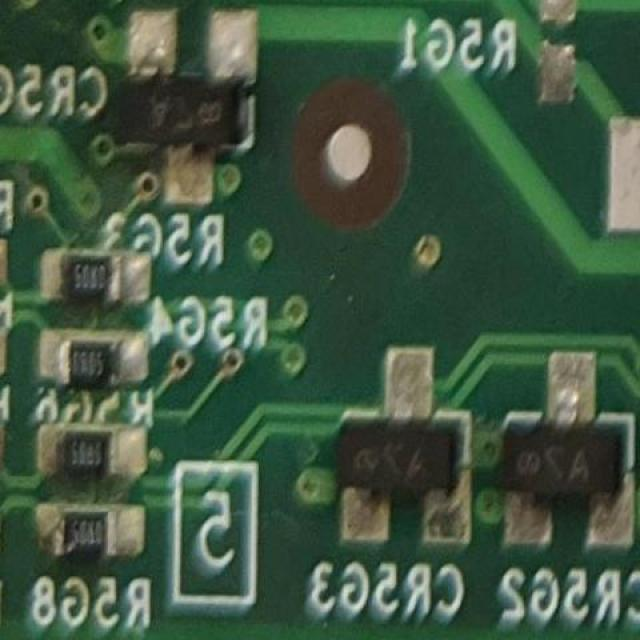resistor: (44, 337, 118, 395), (56, 248, 130, 300), (59, 420, 117, 480), (50, 508, 118, 554)
transistor: (113, 41, 259, 176), (342, 378, 470, 524), (503, 390, 628, 538)
